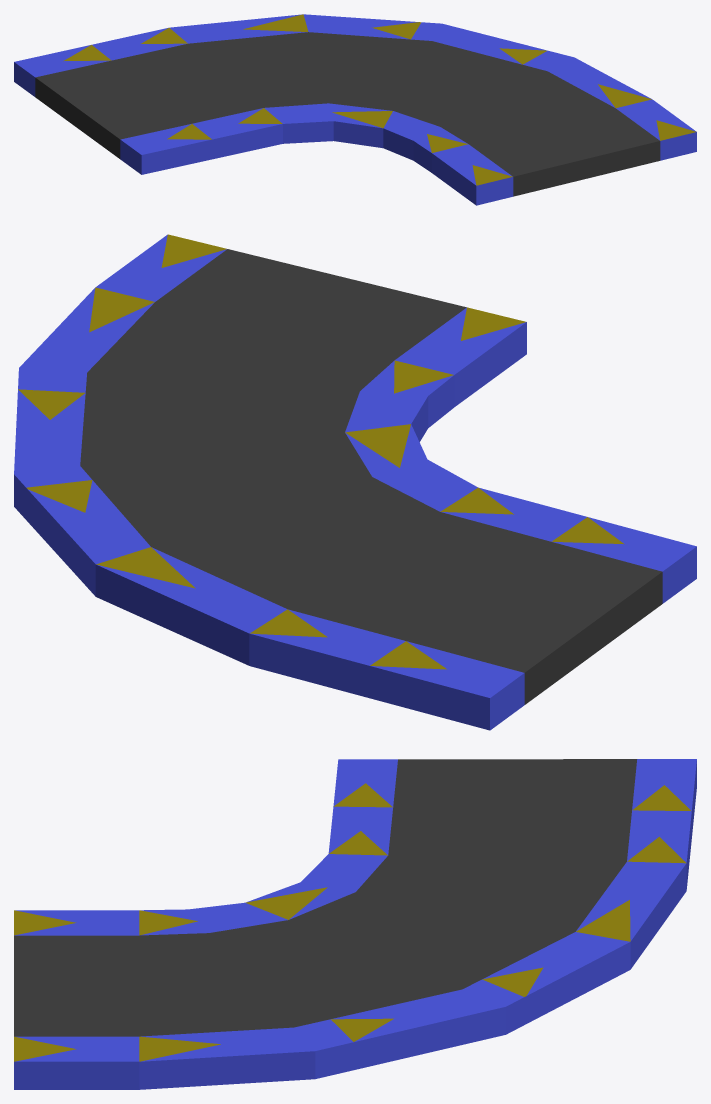
The model's file is Plataforma curva.fbx.
The picture shows the model from 3 angles, top to bottom: view 1: azimuth 30°, elevation 25°; view 2: azimuth 150°, elevation 25°; view 3: azimuth 270°, elevation 25°; orthographic projection. The views are drawn at different scales.
Visible parts, largest first — view 1: Plane; view 2: Plane; view 3: Plane.
Boxes of the visible parts, x1=… form: Plane: x1=14, y1=14, x2=696, y2=205; Plane: x1=14, y1=234, x2=696, y2=730; Plane: x1=14, y1=759, x2=696, y2=1089.
Size of the model in its own units: 601 by 25.98 by 573.
